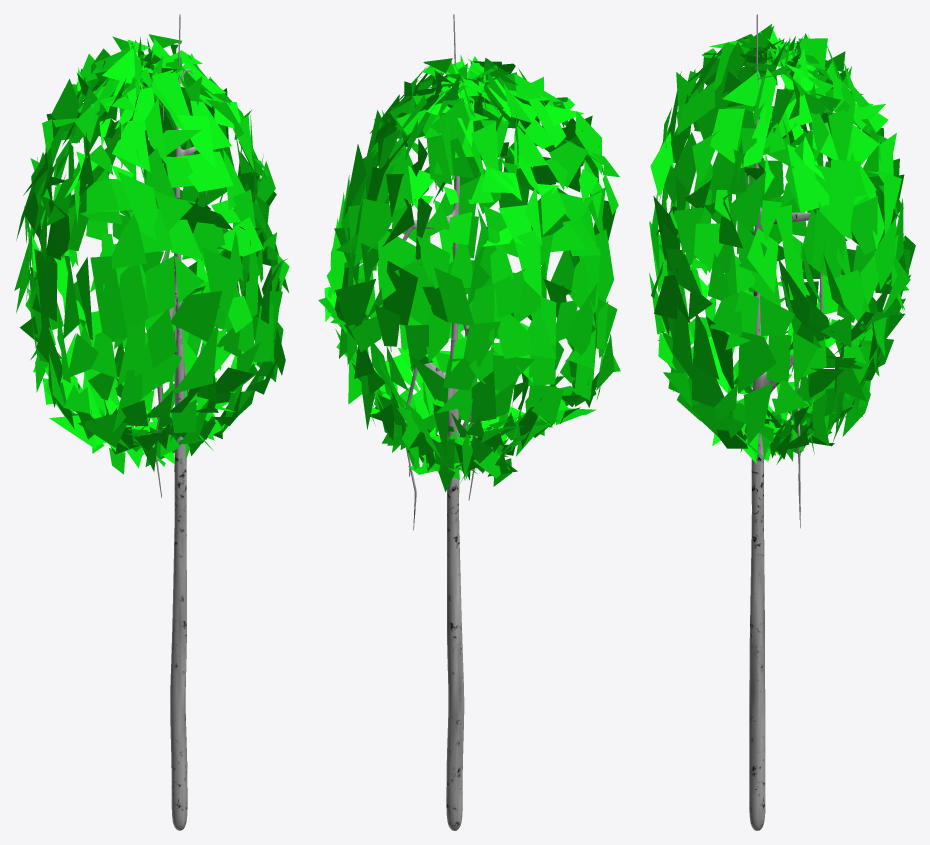
File: Trunk2bake.005.fbx
3 views of the same model, side by side, from view 1: azimuth 30°, elevation 25°; view 2: azimuth 150°, elevation 25°; view 3: azimuth 270°, elevation 25° (orthographic).
Visible parts, largest first — view 1: Trunk2bake.005; view 2: Trunk2bake.005; view 3: Trunk2bake.005.
Part boxes in pixels (<box>): Trunk2bake.005: <box>14,14,289,830</box>; Trunk2bake.005: <box>318,14,620,830</box>; Trunk2bake.005: <box>649,14,915,830</box>.
Bounding box in the file's own units: 816 × 2574 × 762.
Materials: 2 (1 with a texture image).
